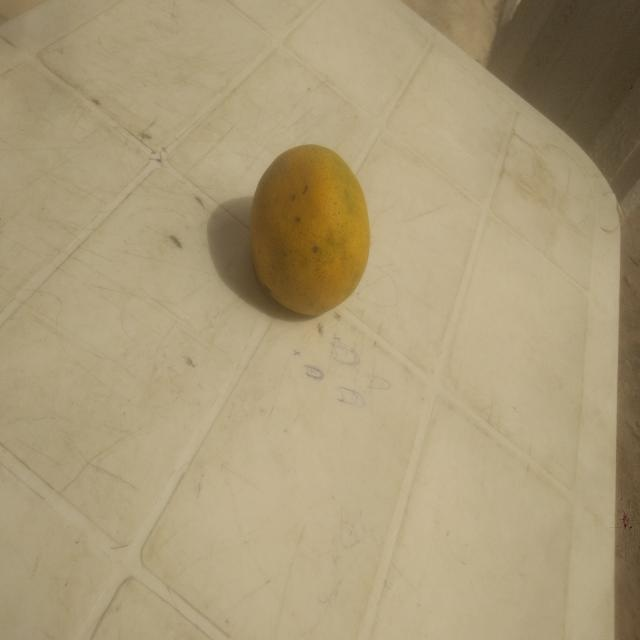agrume: (246, 137, 377, 339)
